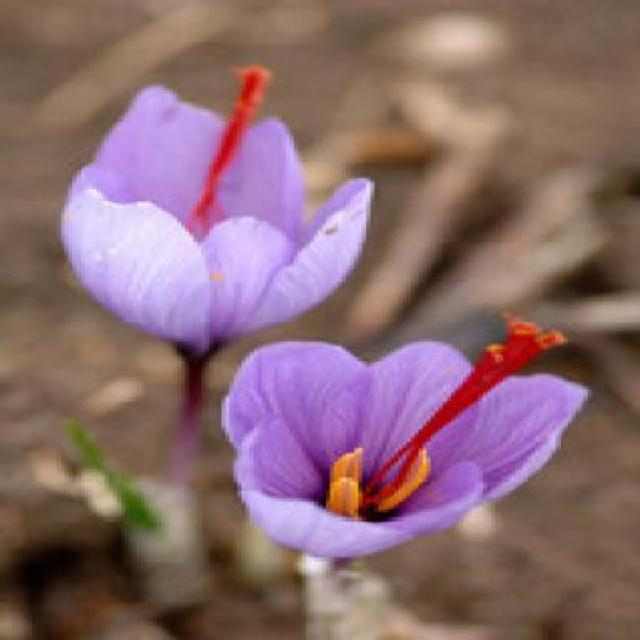Flower: (66, 73, 372, 359), (218, 337, 593, 568)
stigma: (363, 313, 570, 506), (362, 340, 512, 494), (181, 62, 272, 234)
